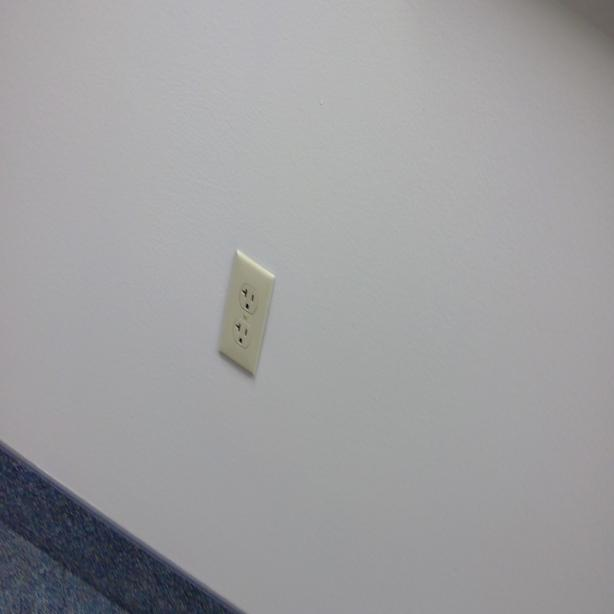typeb: (240, 286, 258, 314), (235, 318, 251, 347)
